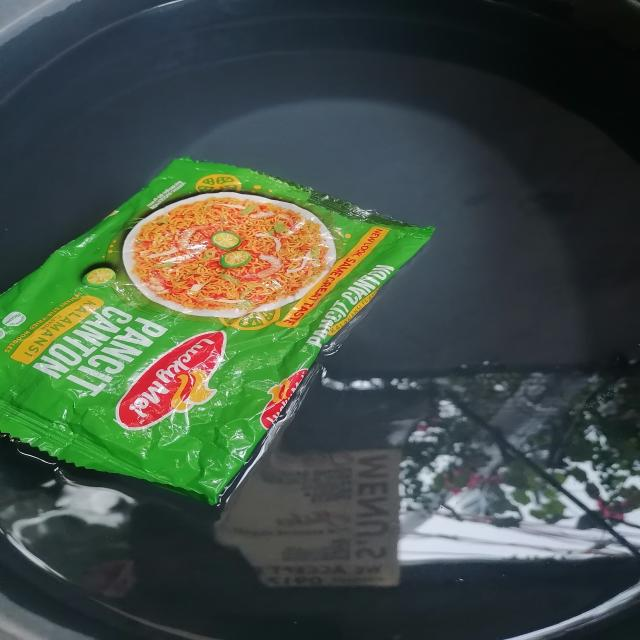Plastic Wrapper: (0, 158, 434, 504)
